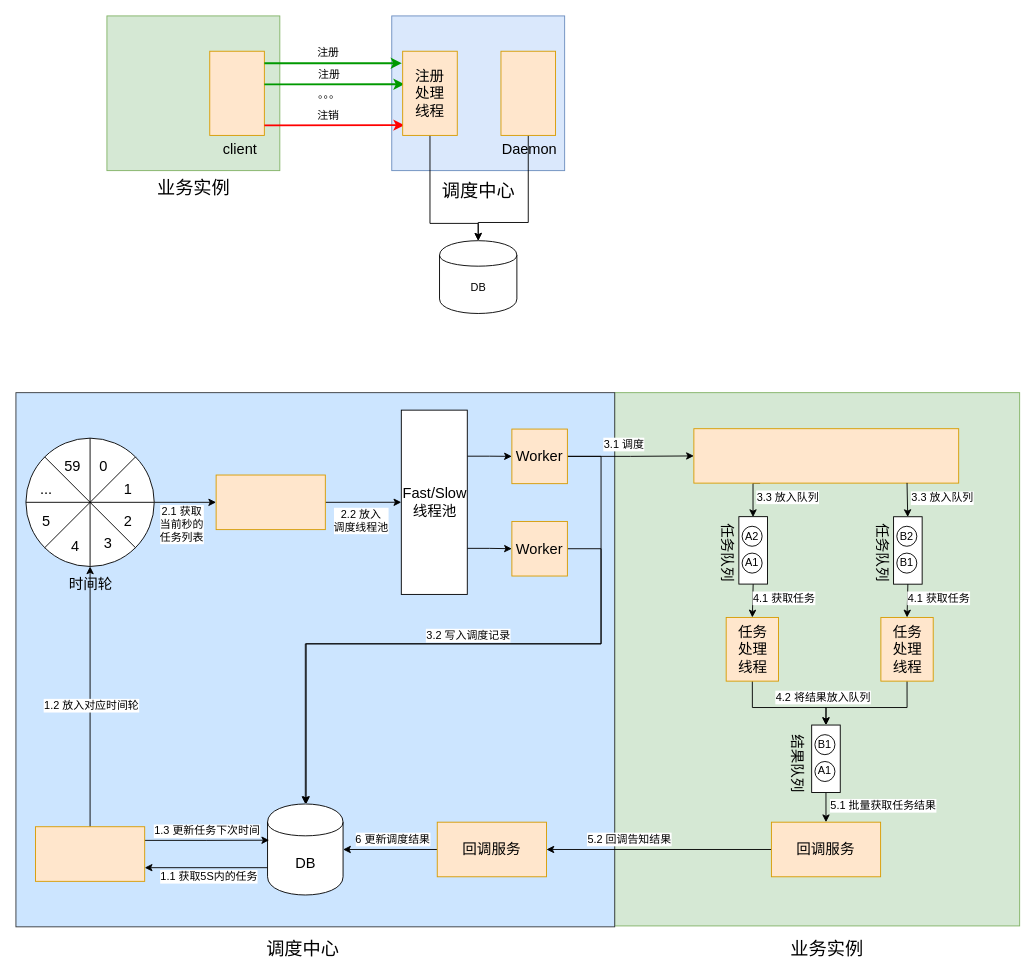
The diagram is 1036 pixels wide and 975 high, and some of its shapes have lost their labels. Each missing label, with the centre of its shape:
"任务接收线程" goes at [826,455].
"后台 线程" goes at [528,92].
"时间轮线程" goes at [270,502].
"注册 线程" goes at [236,92].
"调度线程" goes at [90,853].
